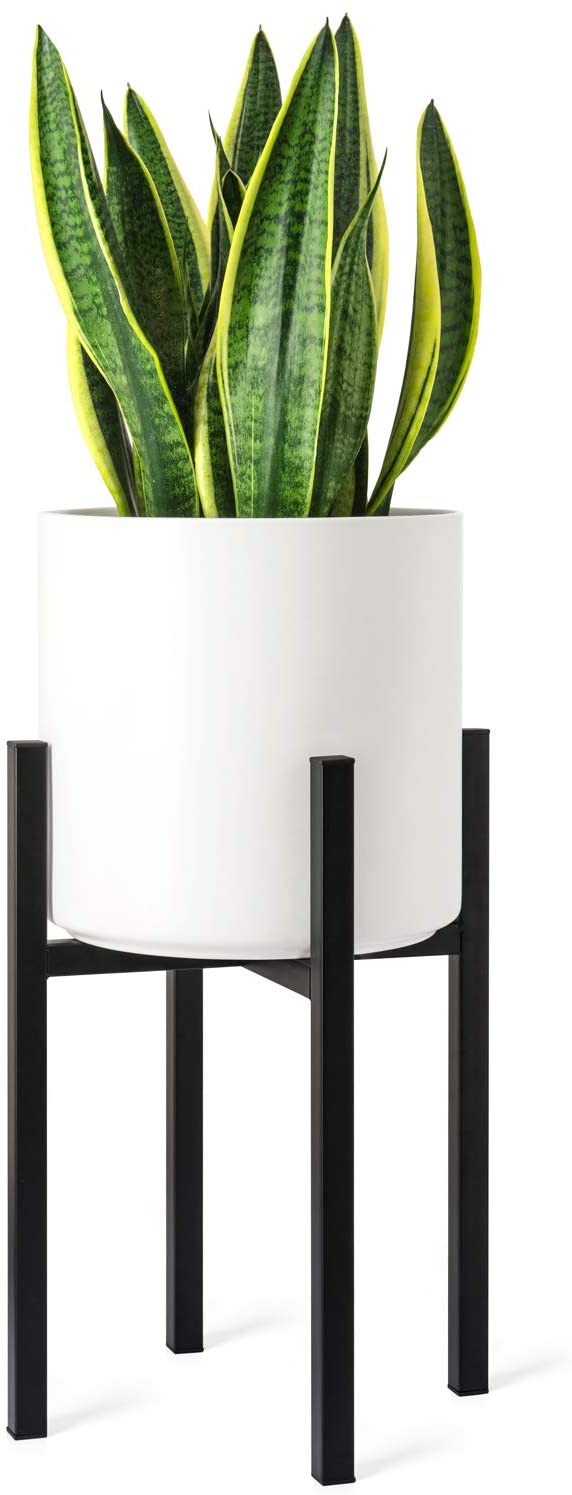tanaman: (15, 17, 510, 954)
